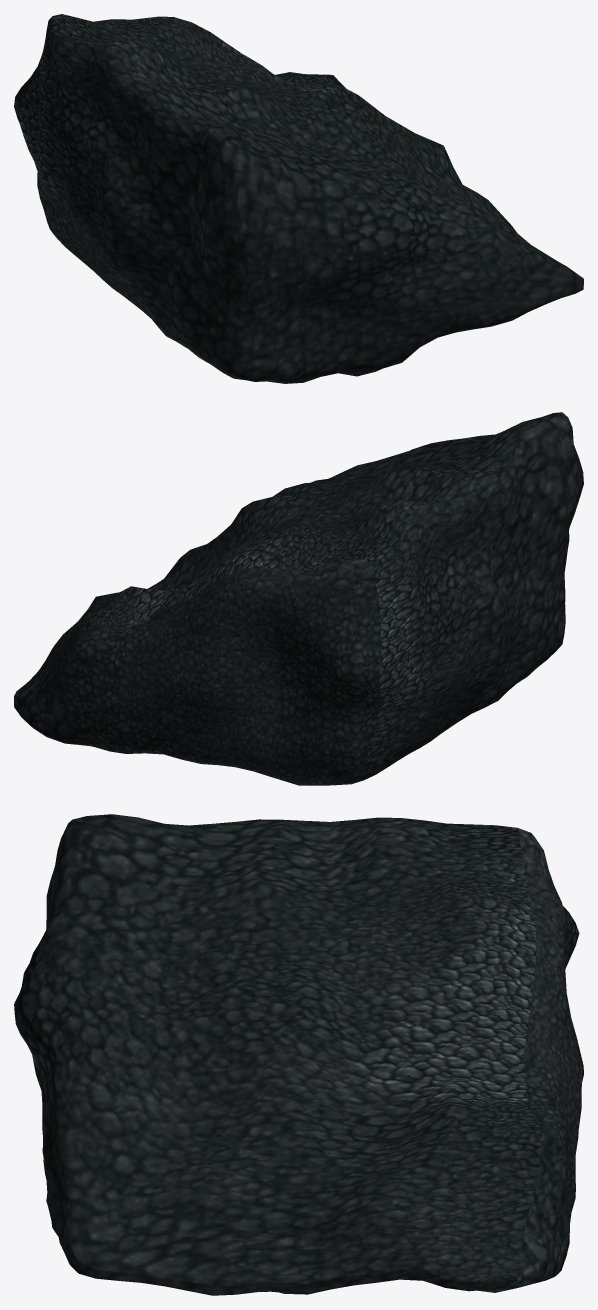
File: rocky slope 1.fbx
The picture shows the model from 3 angles, top to bottom: view 1: azimuth 30°, elevation 25°; view 2: azimuth 150°, elevation 25°; view 3: azimuth 270°, elevation 25°; orthographic projection. The views are drawn at different scales.
Parts seen in each view (by area): view 1: pCube3; view 2: pCube3; view 3: pCube3.
Part boxes in pixels (<box>): pCube3: <box>14,14,583,383</box>; pCube3: <box>14,412,583,785</box>; pCube3: <box>14,814,583,1295</box>.
Bounding box in the file's own units: 1171 × 797 × 1269.
